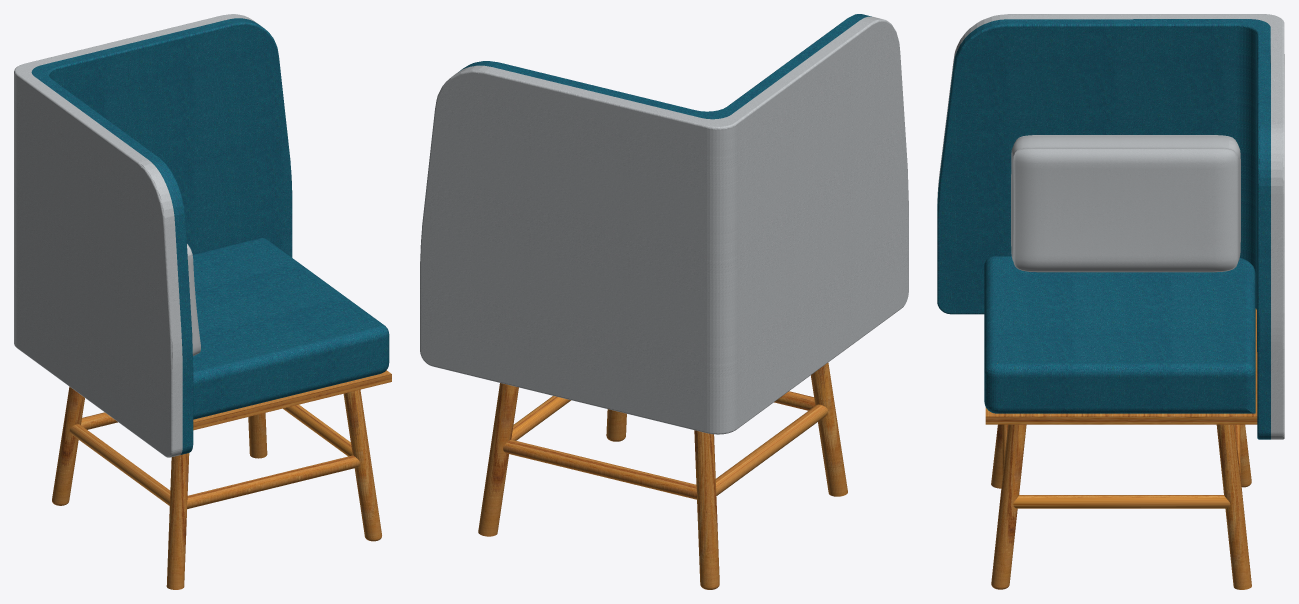
Rendered from L back easy chair.FBX.
3 renders of one model, left to right at view 1: azimuth 30°, elevation 25°; view 2: azimuth 150°, elevation 25°; view 3: azimuth 270°, elevation 25°, orthographic. The views are drawn at different scales.
Visible parts, largest first — view 1: Mesh31, Mesh49, Group_2, Mesh05, Mesh01, Group_5, Box024, Mesh16, Group_4, Group_3, Mesh27, Box22; view 2: Mesh31, Mesh49, Mesh16, Mesh27, Group_6, Mesh01, Group_4, Group_3; view 3: Mesh49, Group_2, Box22, Mesh31, Box024, Mesh27, Mesh05, Group_3, Mesh01, Mesh16.
Boxes of the visible parts, left/top/right/bottom form: Mesh31: left=14, top=14, right=257, bottom=457; Mesh49: left=31, top=18, right=292, bottom=454; Group_2: left=192, top=238, right=389, bottom=419; Mesh05: left=343, top=389, right=381, bottom=541; Mesh01: left=166, top=453, right=189, bottom=589; Group_5: left=187, top=455, right=359, bottom=509; Box024: left=193, top=370, right=391, bottom=430; Mesh16: left=52, top=386, right=84, bottom=505; Group_4: left=69, top=424, right=170, bottom=505; Group_3: left=283, top=404, right=352, bottom=456; Mesh27: left=248, top=413, right=267, bottom=458; Box22: left=187, top=244, right=200, bottom=355; Mesh31: left=420, top=16, right=908, bottom=434; Mesh49: left=459, top=14, right=871, bottom=119; Mesh16: left=694, top=430, right=719, bottom=589; Mesh27: left=478, top=383, right=518, bottom=536; Group_6: left=503, top=439, right=697, bottom=499; Mesh01: left=811, top=363, right=847, bottom=496; Group_4: left=715, top=404, right=828, bottom=495; Group_3: left=511, top=396, right=570, bottom=440; Mesh49: left=937, top=19, right=1270, bottom=439; Group_2: left=984, top=256, right=1255, bottom=413; Box22: left=1011, top=135, right=1240, bottom=272; Mesh31: left=937, top=14, right=1284, bottom=439; Box024: left=985, top=308, right=1257, bottom=424; Mesh27: left=1216, top=424, right=1251, bottom=589; Mesh05: left=991, top=424, right=1026, bottom=589; Group_3: left=1013, top=495, right=1230, bottom=508; Mesh01: left=991, top=424, right=1002, bottom=488; Mesh16: left=1240, top=424, right=1251, bottom=487.
Bounding box in the file's own units: 401 × 603 × 418.
3 materials, 3 textured.
